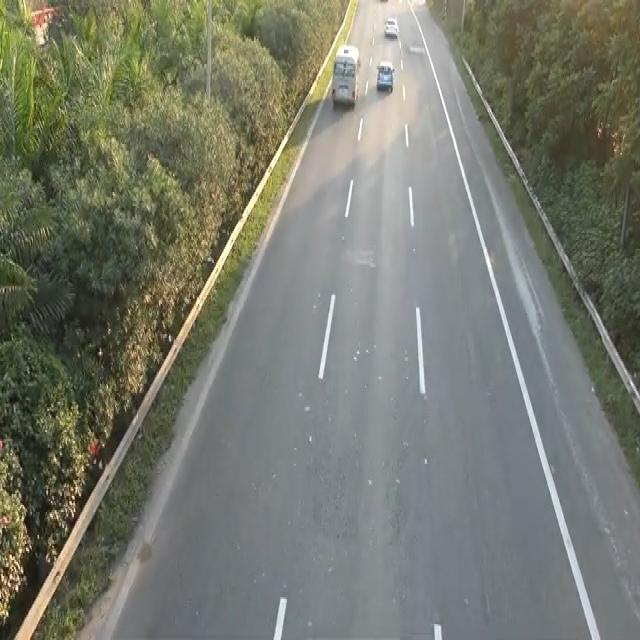bus: (375, 57, 395, 92), (383, 15, 399, 38)
jeep: (330, 42, 360, 108)
